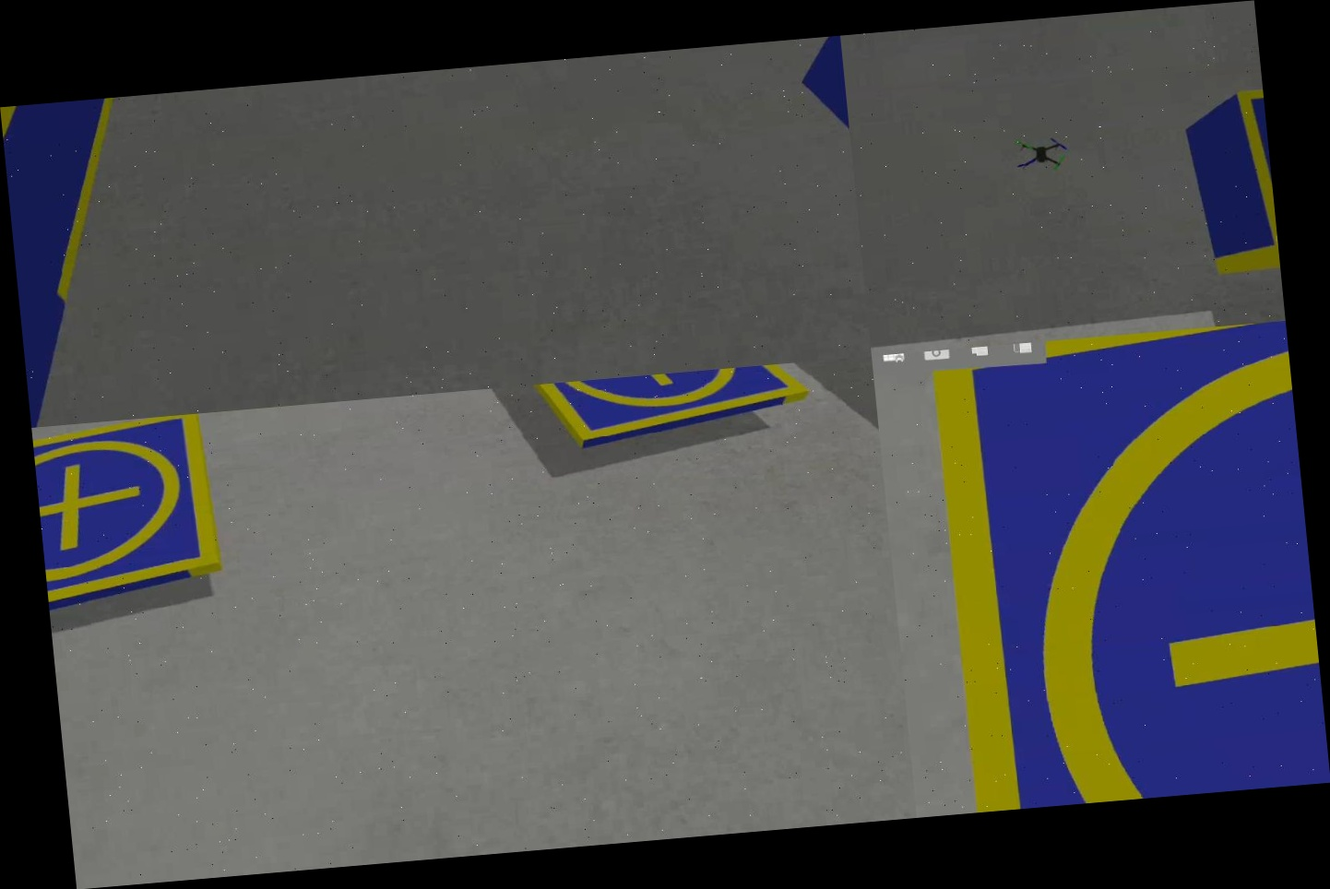large_base: (0, 96, 167, 428)
small_base: (921, 321, 1330, 812), (31, 413, 225, 625), (497, 362, 817, 461)
